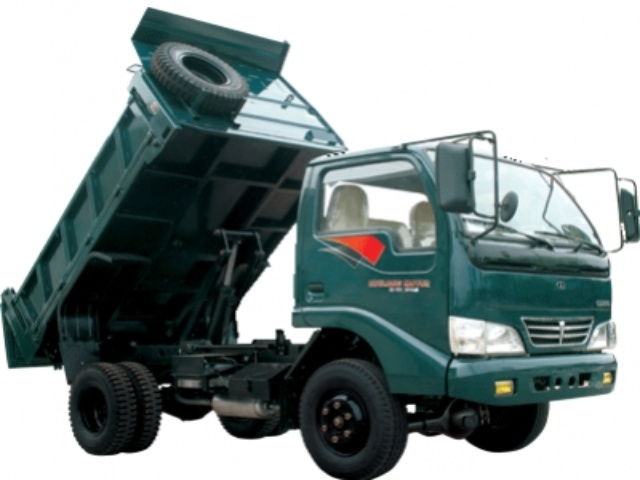Xe_tai_ben: (1, 5, 639, 480)
